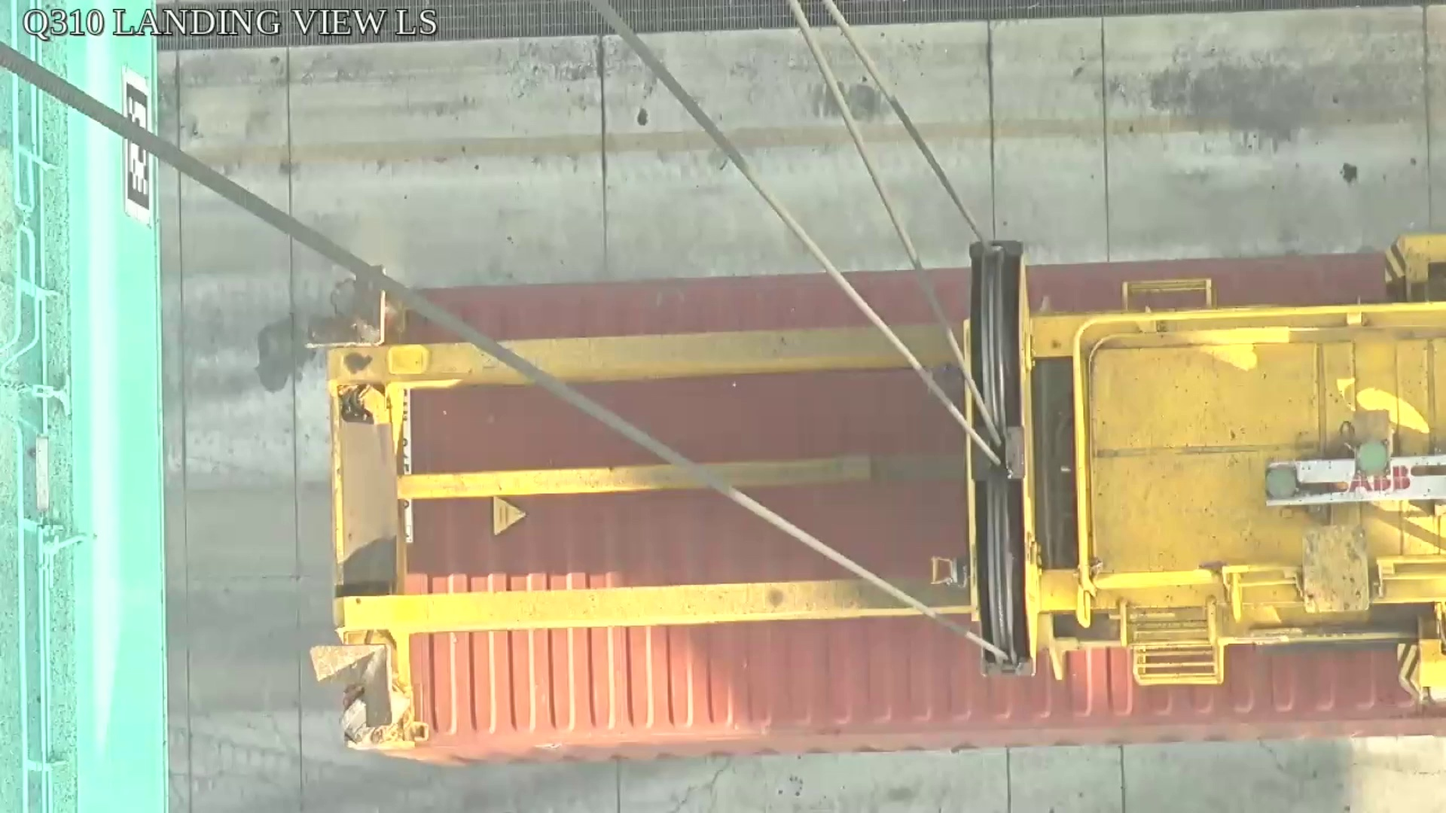aa: (962, 242, 1044, 679)
